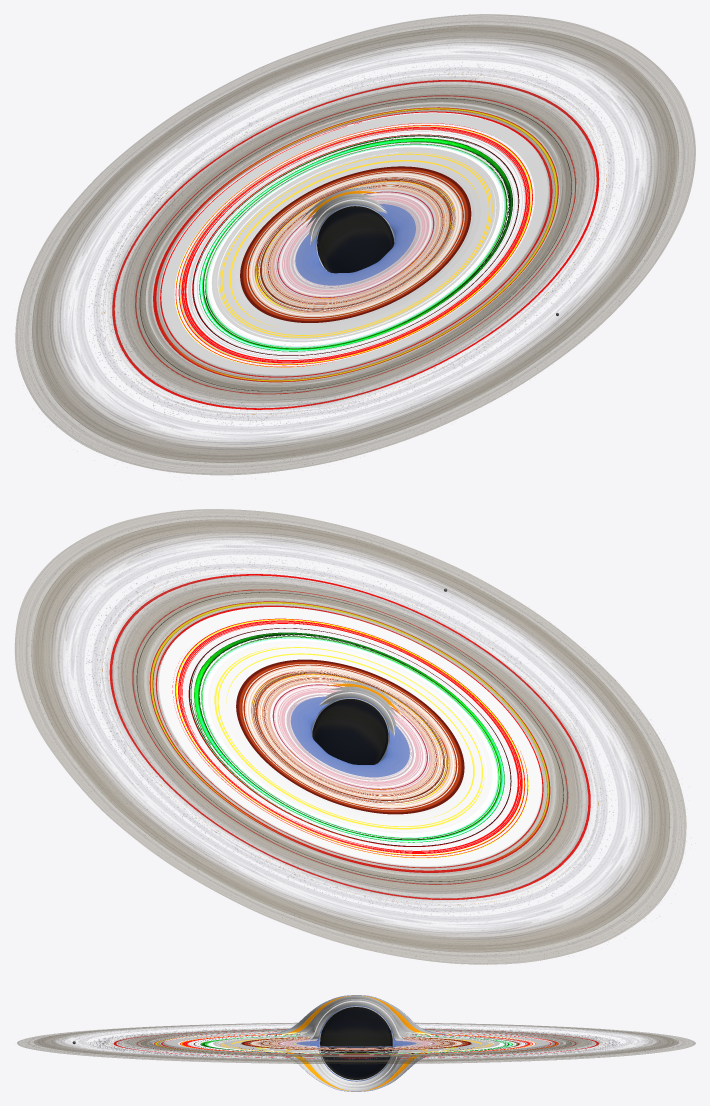
The model's file is black_hole.glb.
The picture shows the model from 3 angles, top to bottom: view 1: azimuth 30°, elevation 25°; view 2: azimuth 150°, elevation 25°; view 3: azimuth 270°, elevation 25°; orthographic projection. The views are drawn at different scales.
Visible parts, largest first — view 1: black hole_ring, black hole; view 2: black hole_ring, black hole; view 3: black hole, black hole_ring.
Boxes of the visible parts, x1,y1,x2,y2 form: black hole_ring: [15, 14, 695, 475]; black hole: [104, 74, 606, 414]; black hole_ring: [15, 509, 686, 964]; black hole: [102, 569, 598, 904]; black hole: [106, 995, 598, 1091]; black hole_ring: [17, 1022, 695, 1063].
Size of what is drawn, in the model's own units: 3098 by 1220 by 3298.
Materials: 8 (7 with a texture image).
